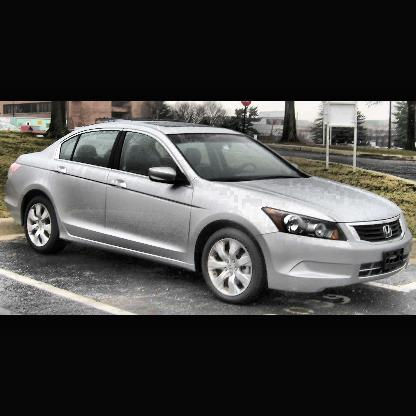Honda Accord Sedan 2012: (6, 121, 412, 304)
